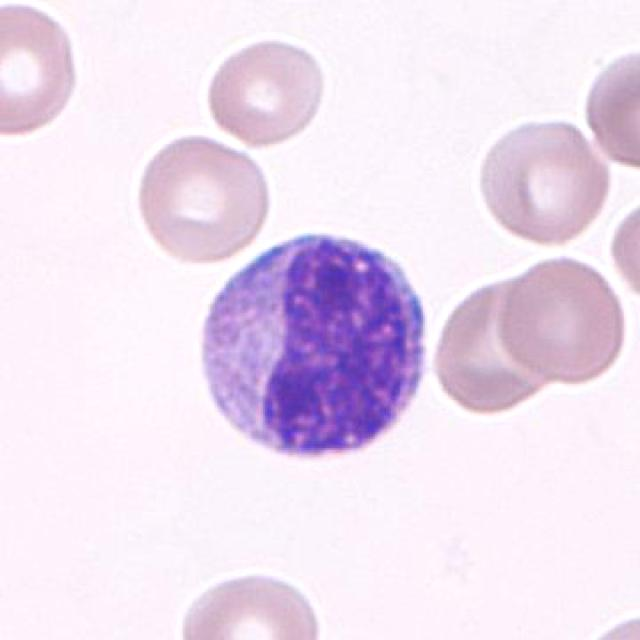RBC: (130, 130, 277, 268), (494, 249, 633, 389), (471, 112, 613, 249), (435, 279, 569, 420), (203, 34, 329, 153), (169, 562, 331, 638), (0, 2, 84, 142), (579, 41, 640, 176), (606, 189, 640, 311), (556, 599, 640, 640)
